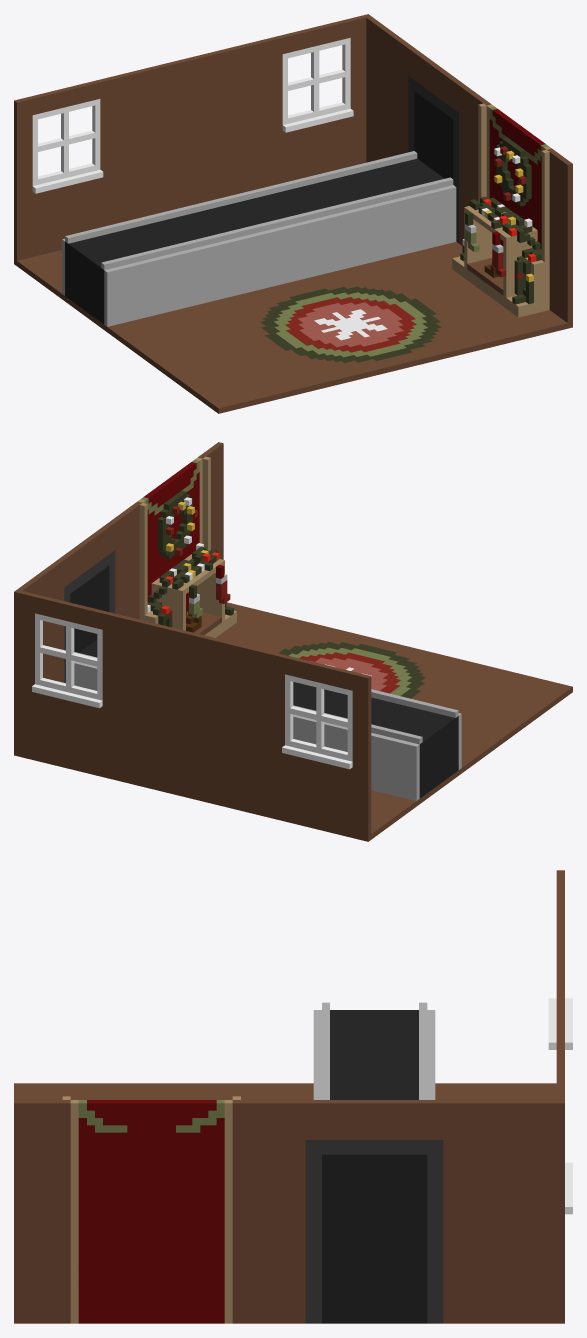
The model's file is house.obj.
3 renders of one model, top to bottom at view 1: azimuth 30°, elevation 25°; view 2: azimuth 150°, elevation 25°; view 3: azimuth 270°, elevation 25°, orthographic. The views are drawn at different scales.
Visible parts, largest first — view 1: house; view 2: house; view 3: house.
Part boxes in pixels (x1,y1,x2,y2): house: (14, 14, 572, 413); house: (14, 442, 572, 841); house: (14, 870, 572, 1323).
Bounding box in the file's own units: 68 × 30 × 69.
1 material, 1 textured.
